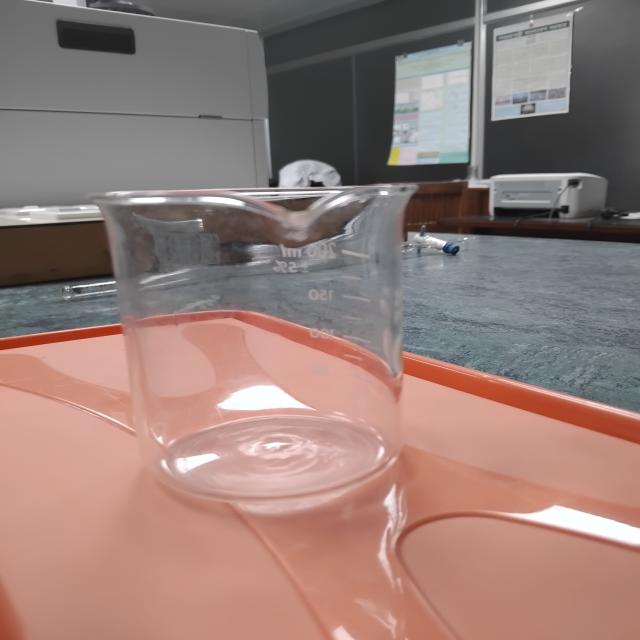Beaker: (63, 134, 452, 528)
